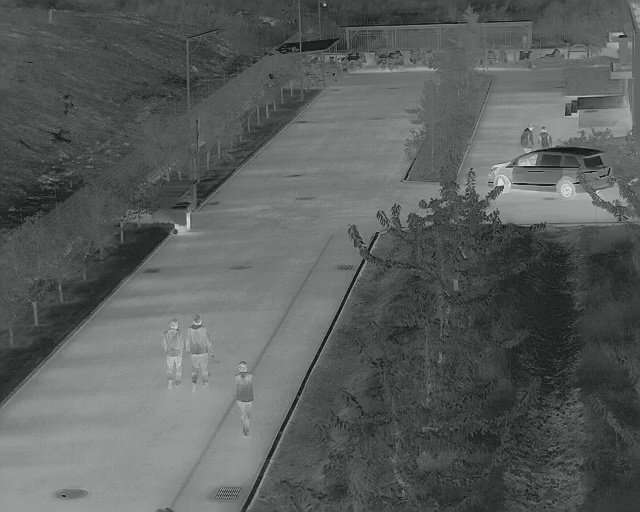person: (233, 360, 258, 440), (189, 314, 215, 390), (164, 320, 186, 387), (539, 123, 555, 149), (521, 121, 535, 148)
vehicle: (487, 147, 612, 197)
